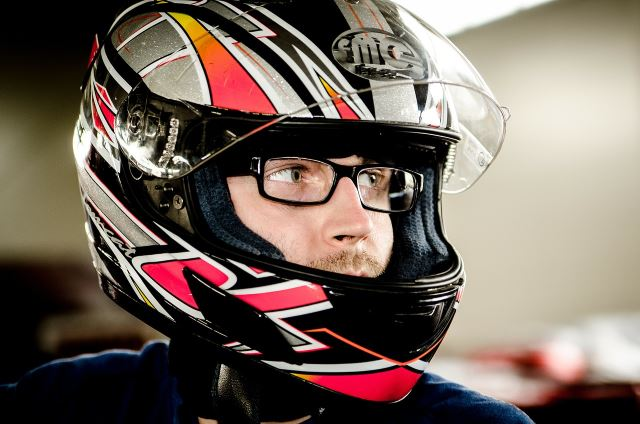helmet: (91, 6, 497, 334)
